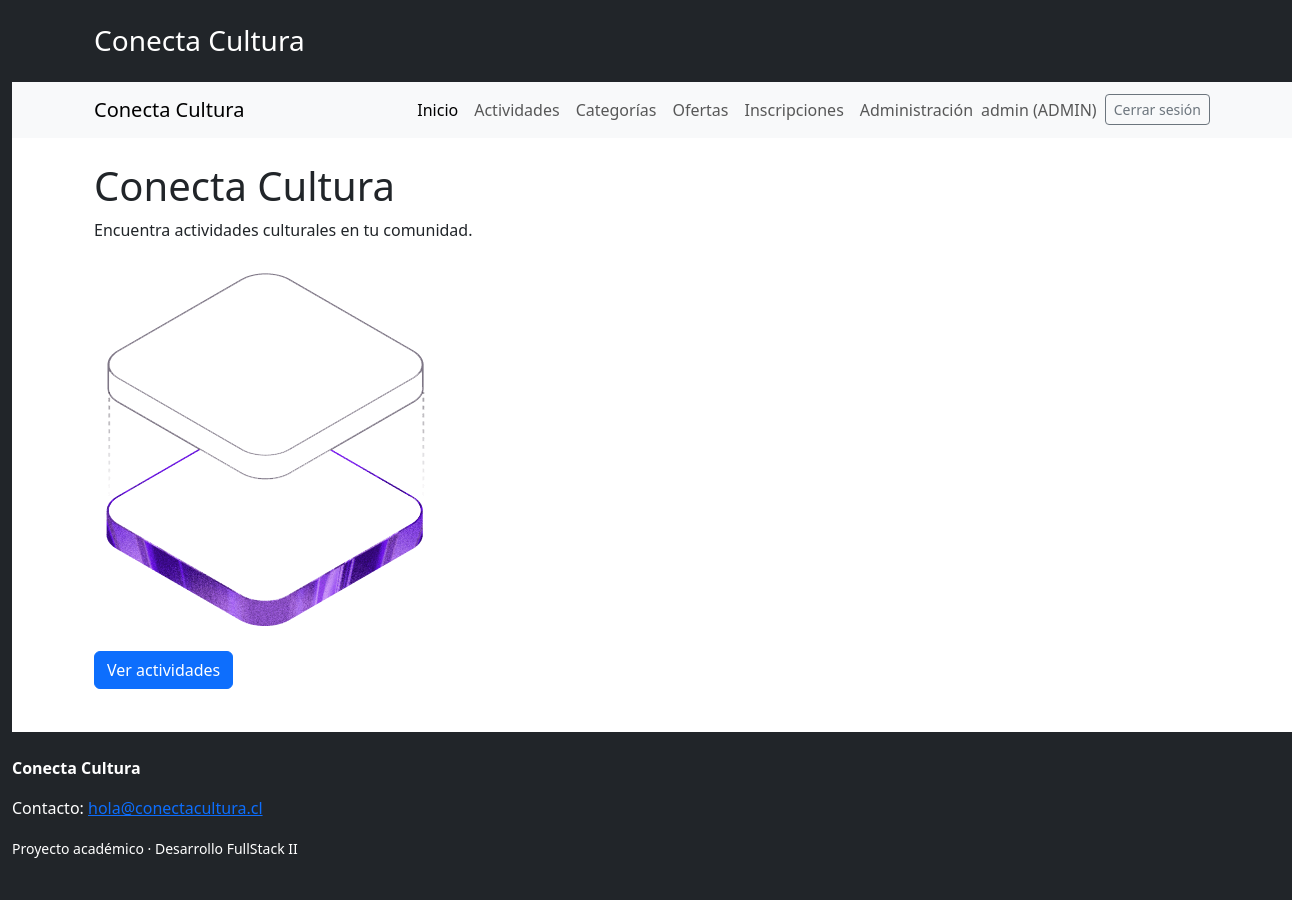
Test: App › muestra el rol y cierra la sesión del ADMIN
Expected: the text "admin (ADMIN)" is shown, top-left (981, 99), bottom-right (1097, 121)
Click the button "Cerrar sesión".
click(1157, 110)  # box top-left (1105, 94), bottom-right (1210, 125)
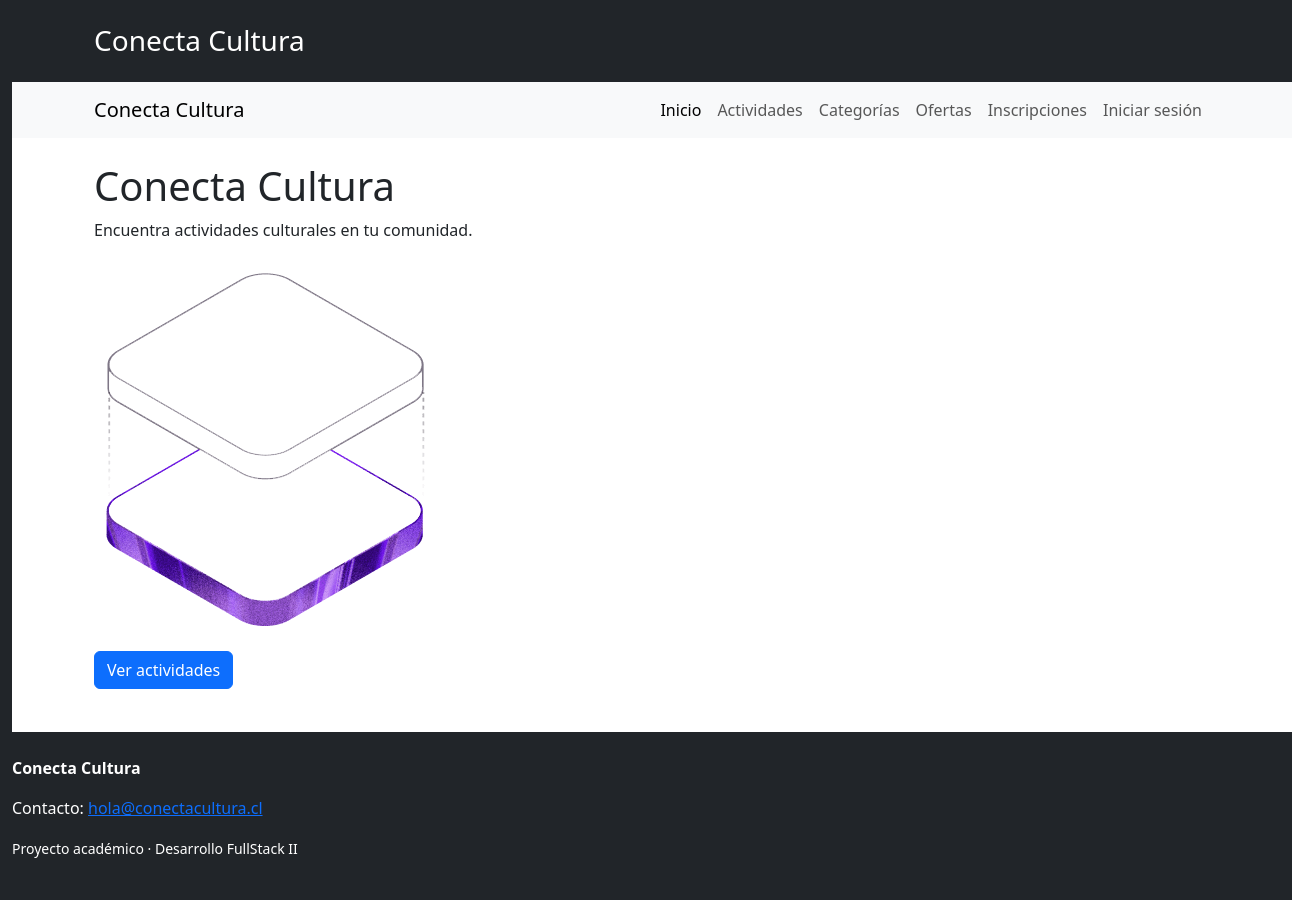
Result: the link "Iniciar sesión" is shown at top-left (1103, 99), bottom-right (1202, 121)
